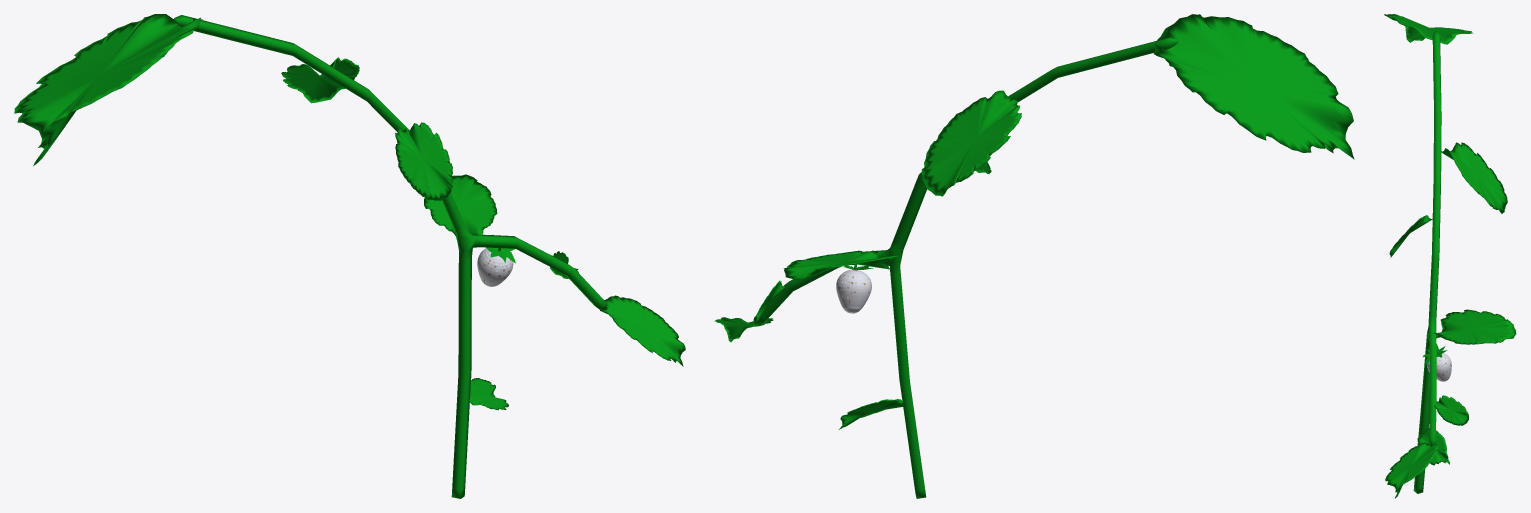
The model's file is Fraise_Croissance_1.fbx.
The picture shows the model from 3 angles, left to right: view 1: azimuth 30°, elevation 25°; view 2: azimuth 150°, elevation 25°; view 3: azimuth 270°, elevation 25°; orthographic projection. The views are drawn at different scales.
Parts seen in each view (by area): view 1: Plane.002, Plane.006, Plane.007, Plane.001, Plane.004, Plane.003, Fraise.001, Plane.005; view 2: Plane.002, Plane.006, Plane.003, Plane.004, Fraise.001, Plane.005; view 3: Plane.006, Plane.004, Plane.003, Plane.001, Plane.002, Plane, Fraise.001, Plane.005, Plane.007.
Boxes of the visible parts, bbox=[...] form: Plane.002: bbox=[14, 14, 202, 165]; Plane.006: bbox=[173, 15, 607, 498]; Plane.007: bbox=[395, 122, 452, 200]; Plane.001: bbox=[600, 295, 685, 366]; Plane.004: bbox=[424, 174, 497, 242]; Plane.003: bbox=[281, 57, 359, 103]; Fraise.001: bbox=[477, 234, 515, 286]; Plane.005: bbox=[469, 378, 508, 410]; Plane.002: bbox=[1153, 14, 1354, 159]; Plane.006: bbox=[753, 37, 1177, 498]; Plane.003: bbox=[921, 90, 1021, 196]; Plane.004: bbox=[783, 250, 899, 280]; Fraise.001: bbox=[836, 264, 873, 313]; Plane.005: bbox=[839, 399, 902, 429]; Plane.006: bbox=[1413, 31, 1441, 493]; Plane.004: bbox=[1433, 309, 1516, 344]; Plane.003: bbox=[1441, 142, 1507, 213]; Plane.001: bbox=[1385, 442, 1439, 498]; Plane.002: bbox=[1384, 14, 1473, 44]; Plane: bbox=[1434, 395, 1468, 425]; Fraise.001: bbox=[1423, 343, 1451, 381]; Plane.005: bbox=[1417, 428, 1449, 465]; Plane.007: bbox=[1389, 215, 1432, 257].
Bounding box in the file's own units: 51.27 × 41.5 × 13.29.
